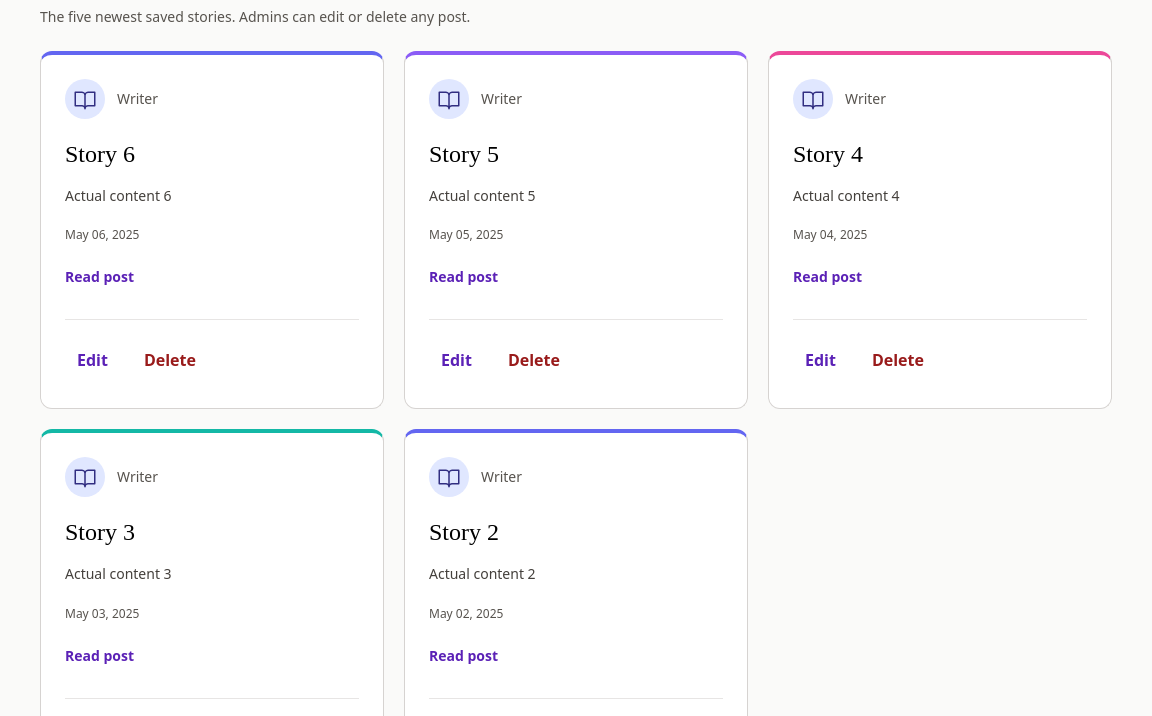
Scenario: AdminDashboard › rereads authoritative posts and accounts after deletion, including records added after render
The image size is (1152, 716).
(page scrolled)
Click the button "Delete" below "May 06, 2025": (170, 360) [132,336,208,384]
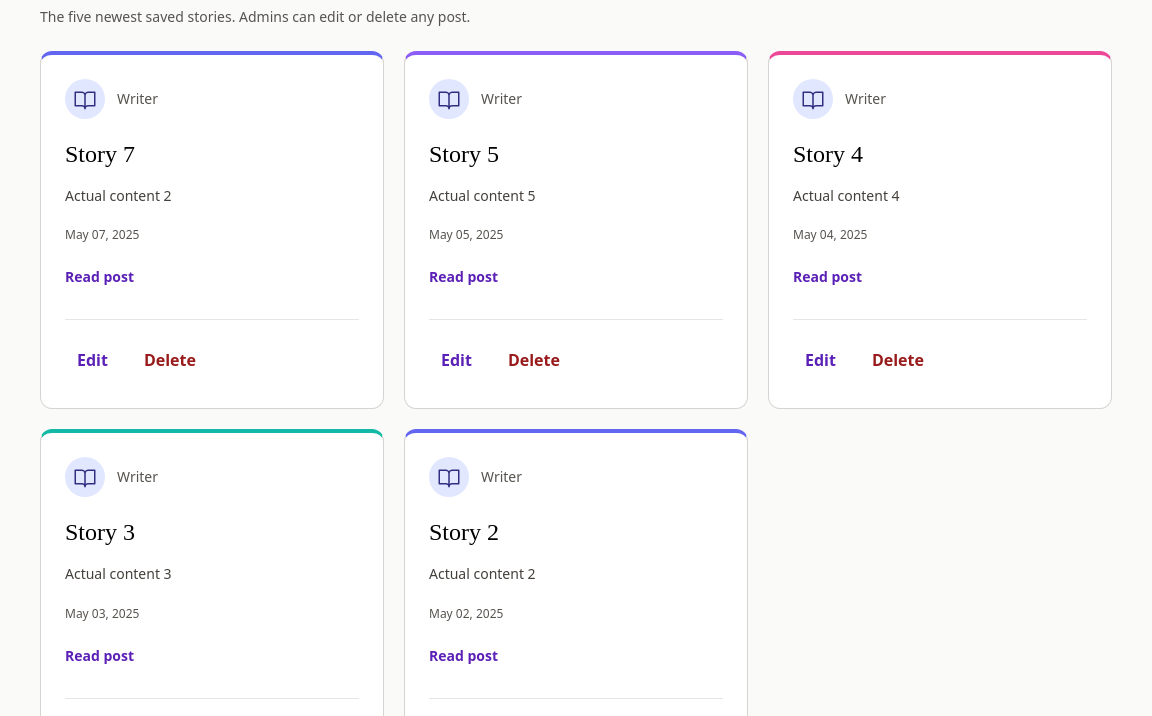
Expected: the link "Story 6" is gone
